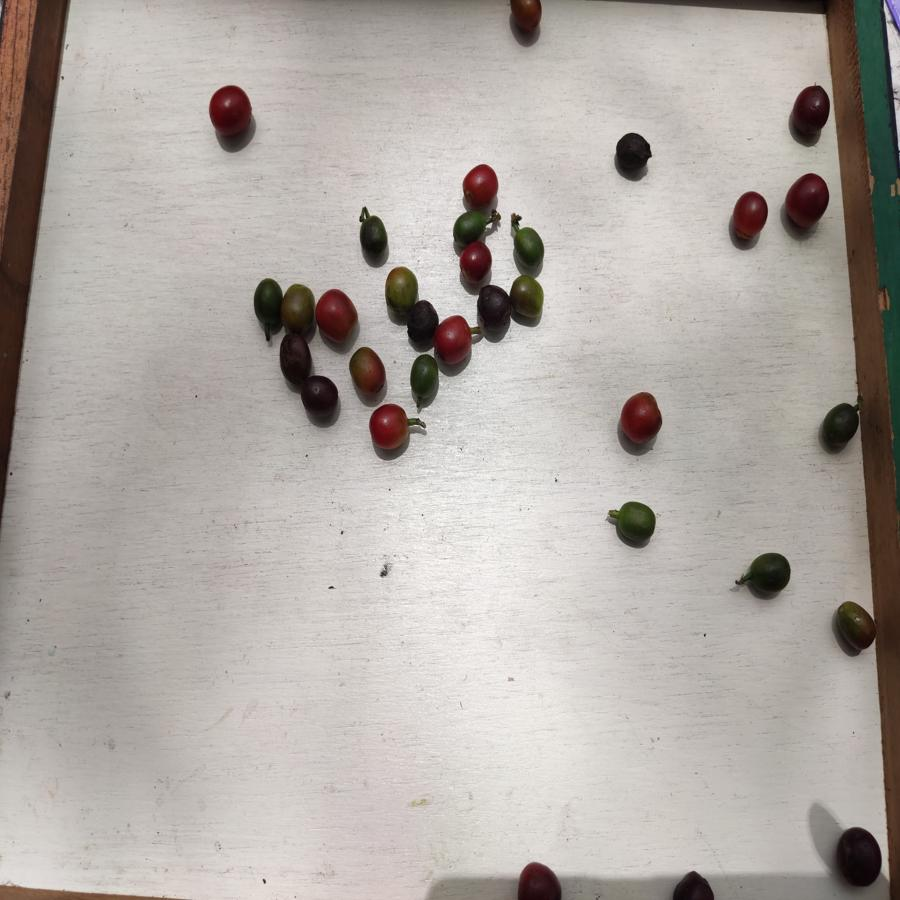Inmaduro: (821, 401, 859, 451), (616, 502, 658, 546), (748, 552, 792, 593), (512, 226, 546, 268), (253, 279, 282, 324), (358, 217, 389, 259), (407, 354, 436, 397), (453, 211, 490, 237)
Maduro: (314, 288, 362, 344), (207, 84, 254, 137), (617, 393, 664, 445), (434, 315, 475, 364), (368, 404, 410, 449), (733, 192, 769, 241), (462, 163, 499, 204)
Pinton: (832, 597, 878, 652), (349, 343, 387, 397), (280, 284, 316, 331), (510, 276, 546, 320), (384, 265, 416, 311)
Sobremaduro: (789, 84, 831, 144), (784, 173, 825, 231), (516, 860, 564, 900), (613, 134, 655, 175), (302, 377, 342, 420), (476, 287, 512, 332), (277, 337, 311, 380), (458, 242, 492, 283), (672, 871, 718, 900), (512, 1, 545, 38), (409, 301, 436, 342)
